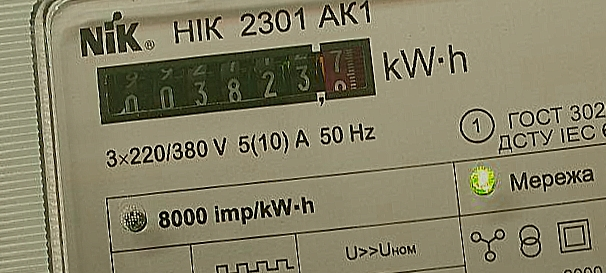0: (154, 81, 177, 110), (121, 90, 142, 115)
2: (258, 66, 281, 101)
3: (293, 61, 314, 93), (190, 76, 211, 107)
7: (328, 47, 348, 77)
8: (224, 74, 244, 104)
9: (120, 68, 141, 90)
screen: (87, 28, 382, 134)
